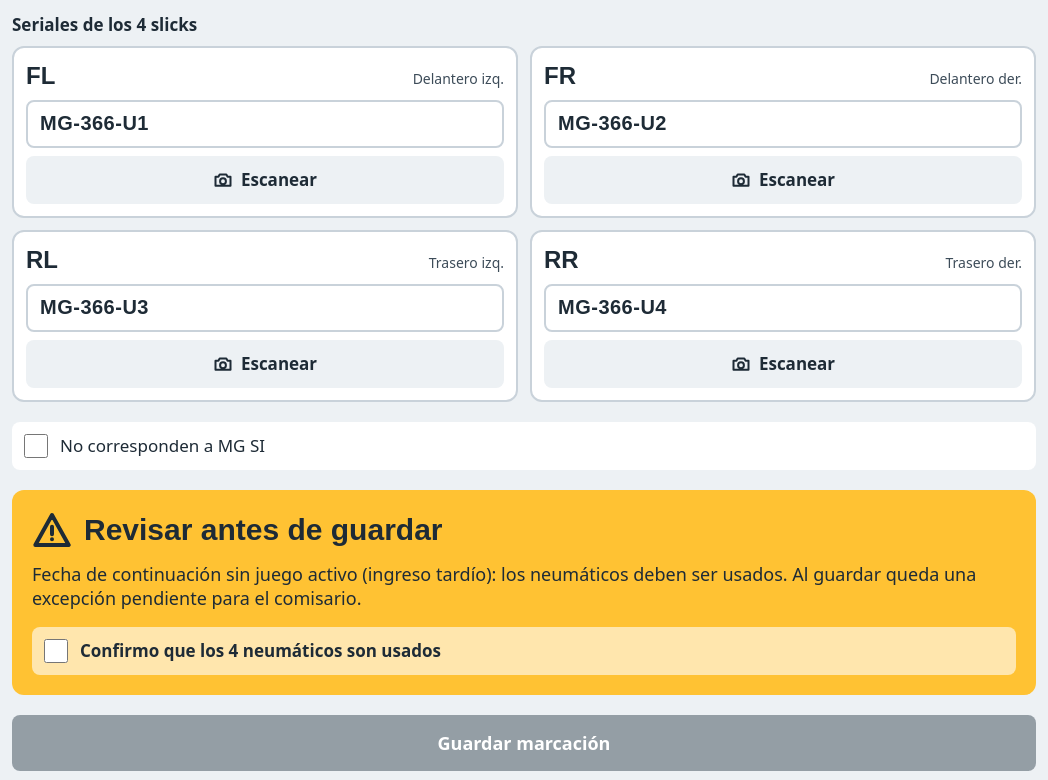
Scenario: TireMarkingForm — semáforo de la marcación › caso ingreso tardío: ámbar y exige confirmar que son usados antes de guardar
Check: the heading "Revisar antes de guardar" is shown, box [84,511,442,548]
Check: the button "Guardar marcación" is disabled, box [12,715,1036,771]
Click the checkbox labelled "Confirmo que los 4 neumáticos son usados" at point(56, 651), box [44,639,68,663]
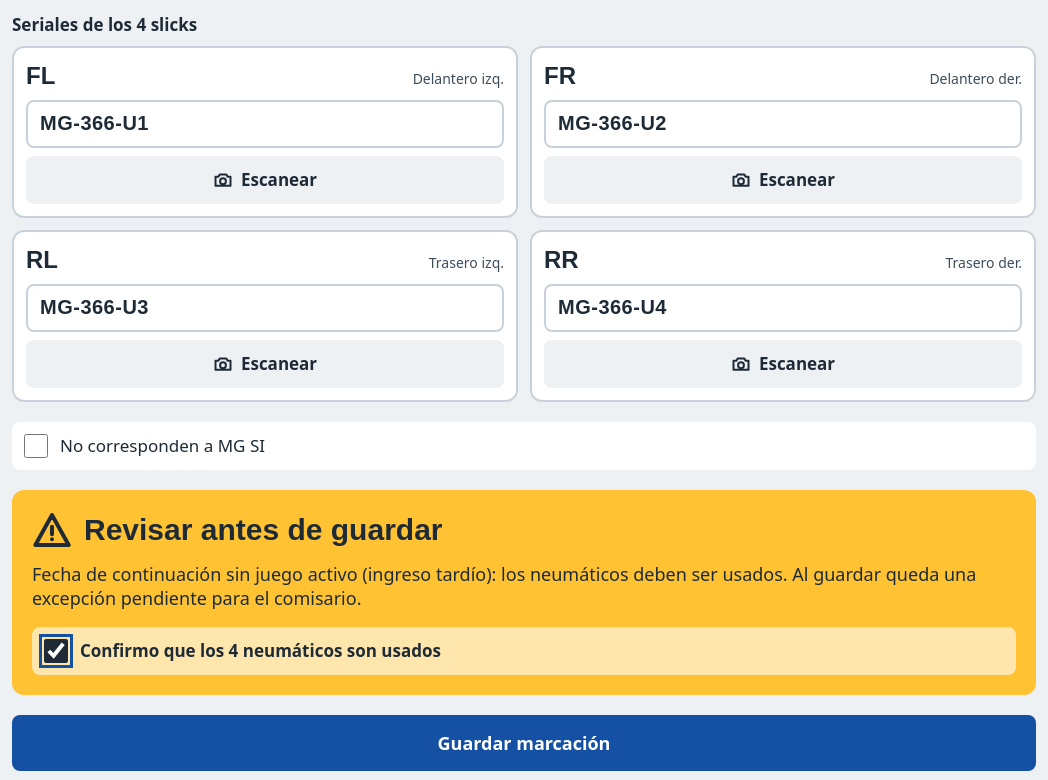
Check: the button "Guardar marcación" is enabled, box [12,715,1036,771]
